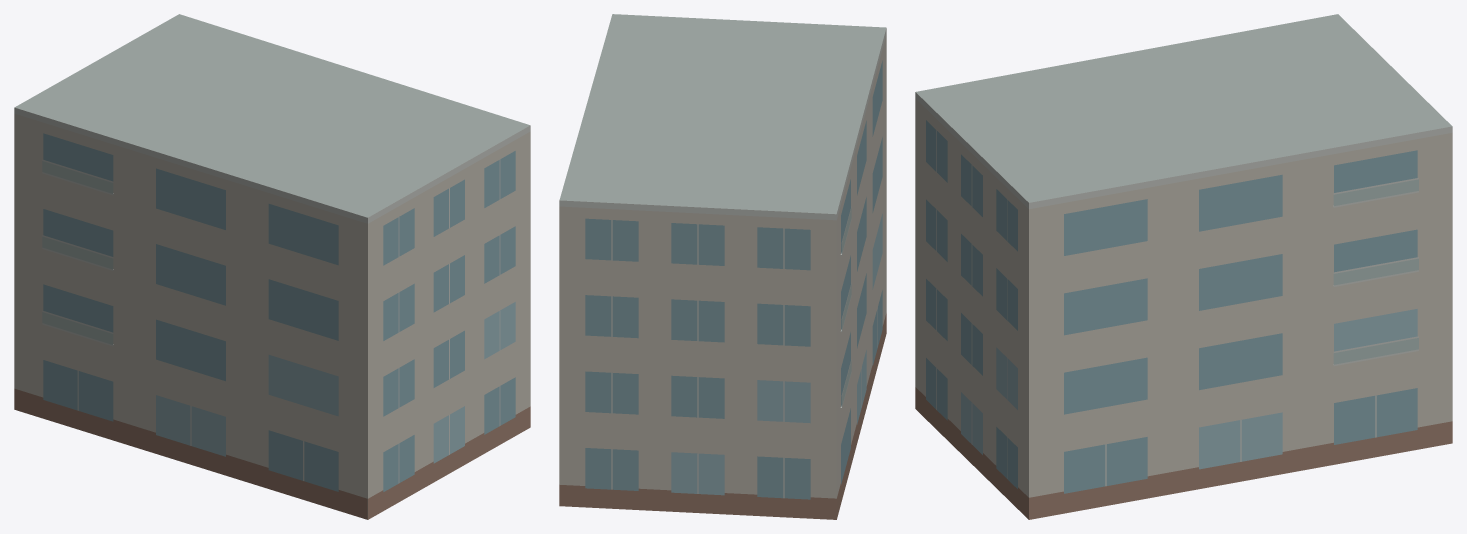
File: survey-upis-32593916.glb
3 renders of one model, left to right at view 1: azimuth 30°, elevation 25°; view 2: azimuth 150°, elevation 25°; view 3: azimuth 270°, elevation 25°, orthographic. The views are drawn at different scales.
Parts seen in each view (by area): view 1: survey-upis-32593916.tmp; view 2: survey-upis-32593916.tmp; view 3: survey-upis-32593916.tmp.
Boxes of the visible parts, left/top/right/bottom form: survey-upis-32593916.tmp: left=14, top=14, right=530, bottom=519; survey-upis-32593916.tmp: left=559, top=14, right=886, bottom=519; survey-upis-32593916.tmp: left=915, top=14, right=1452, bottom=519.
Bounding box in the file's own units: 15.6 × 12.2 × 18.75.
